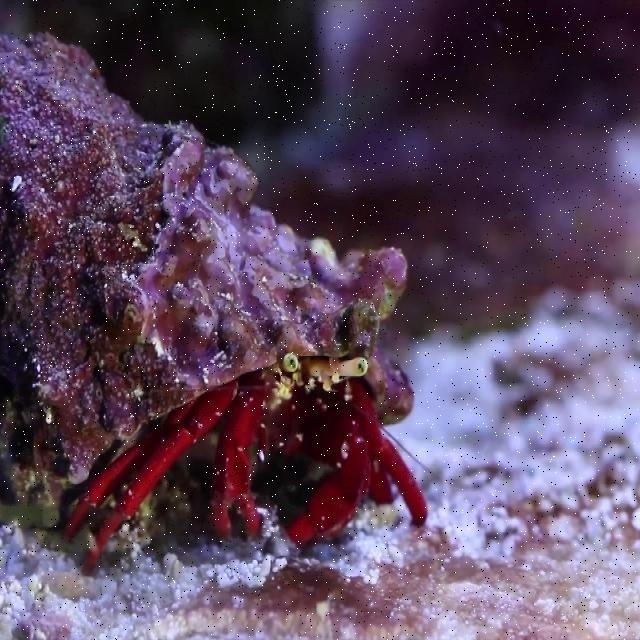fish: (49, 357, 434, 575)
sea-floor: (1, 35, 413, 494)
